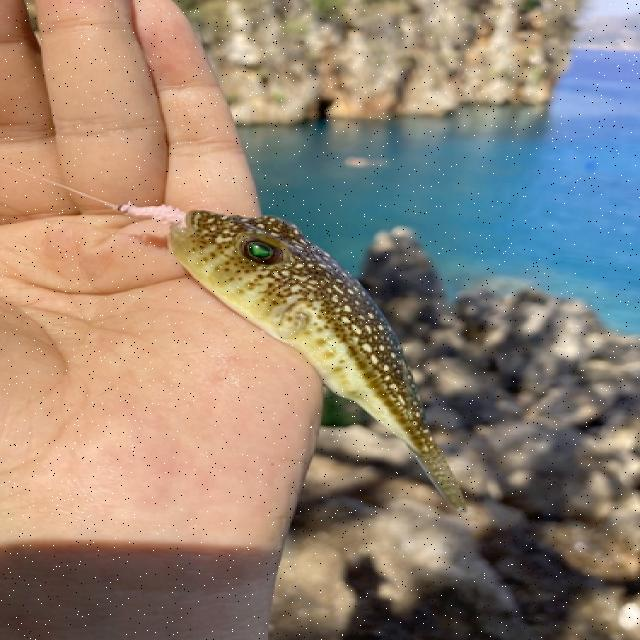Balik: (169, 210, 465, 510)
